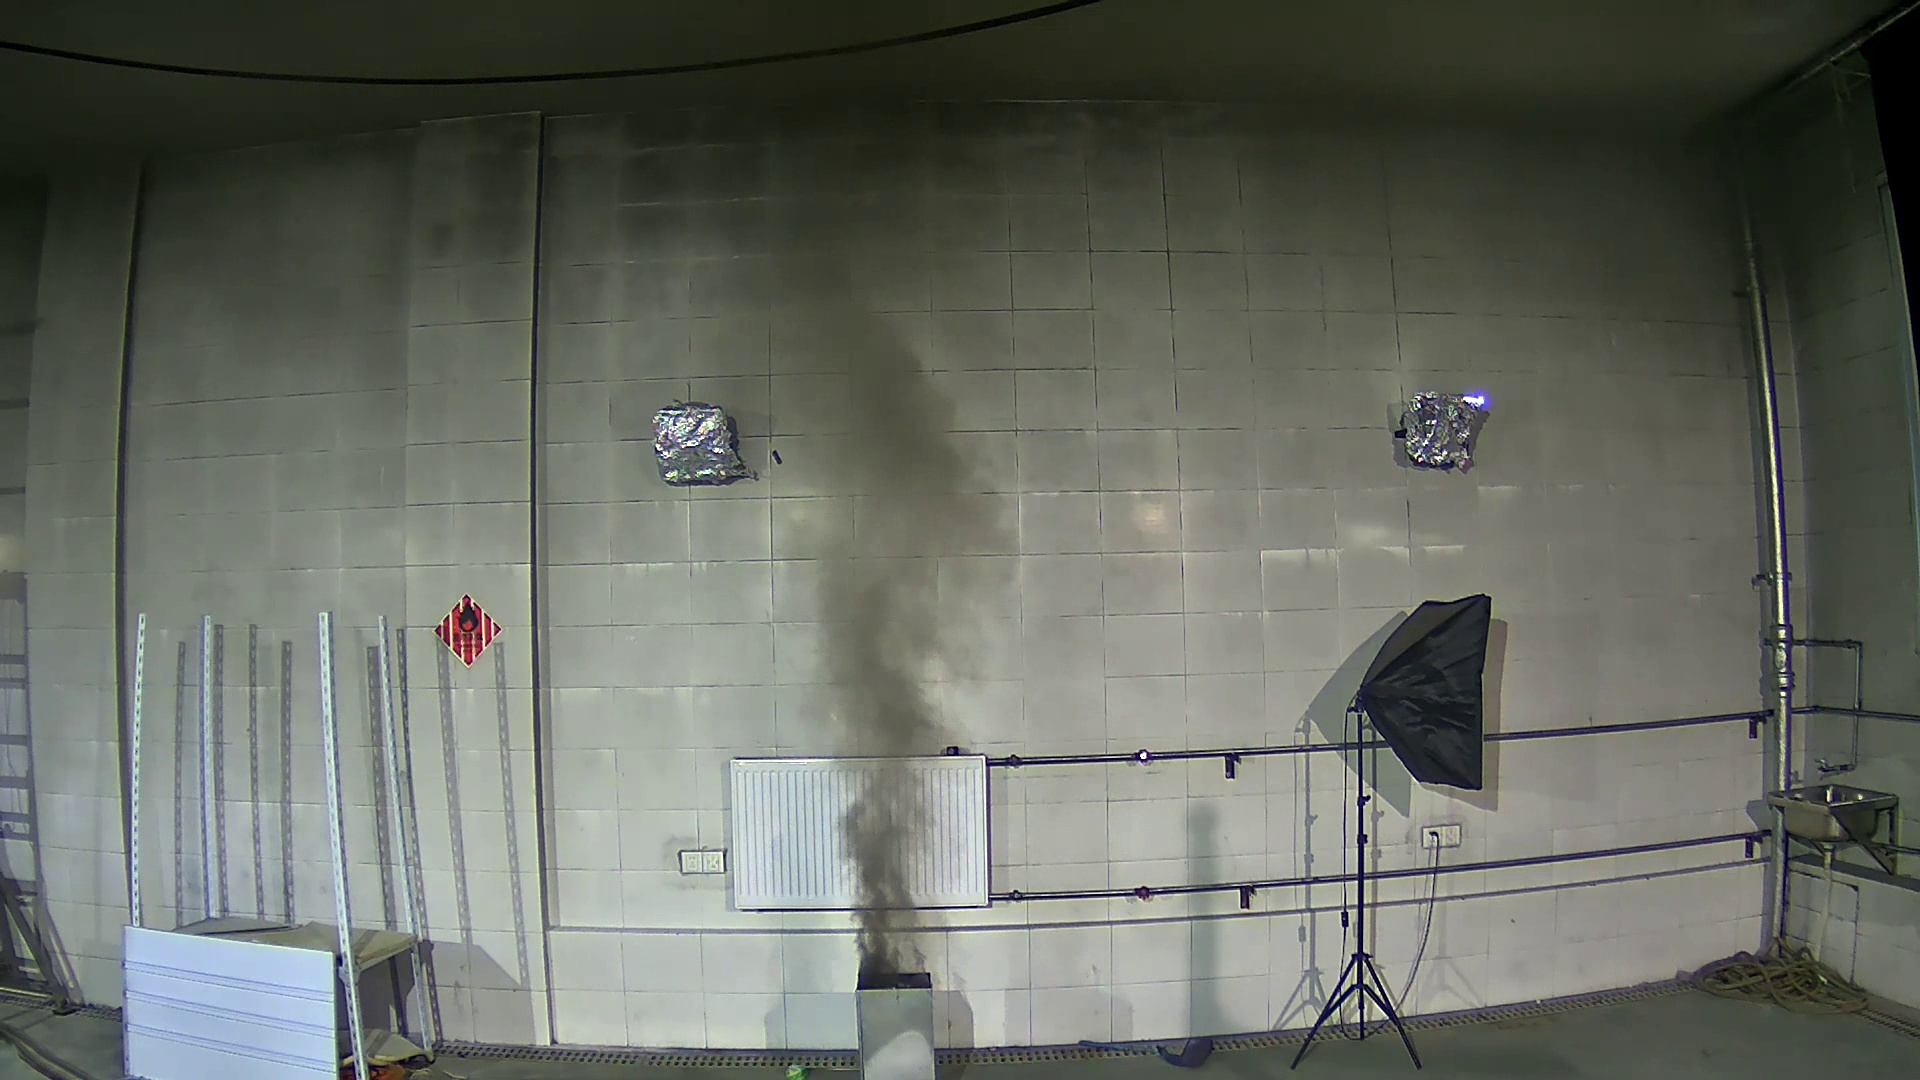smoke: (775, 347, 1044, 971)
